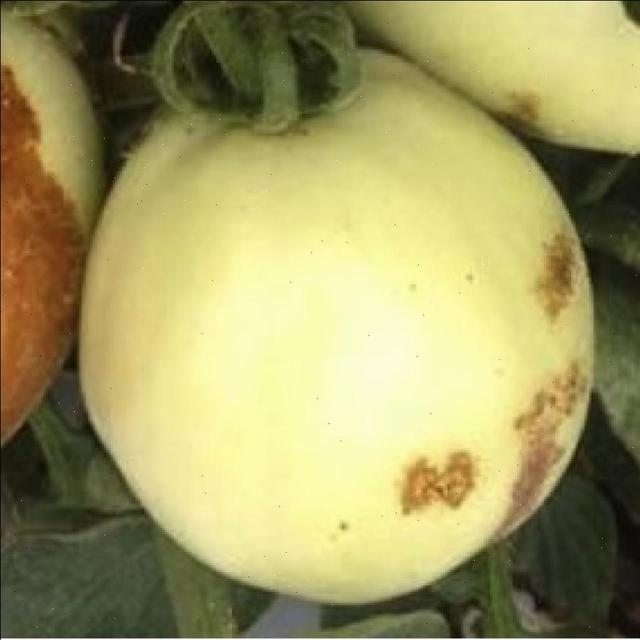Spotted wilt Virus Fruit: (49, 28, 399, 403)
